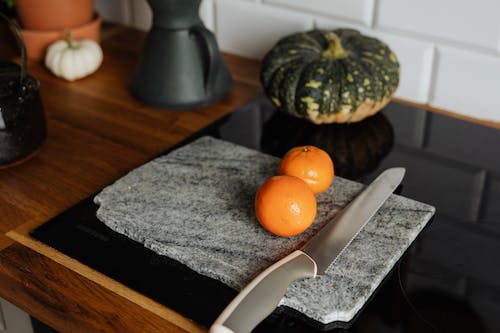knife: (205, 166, 407, 333)
